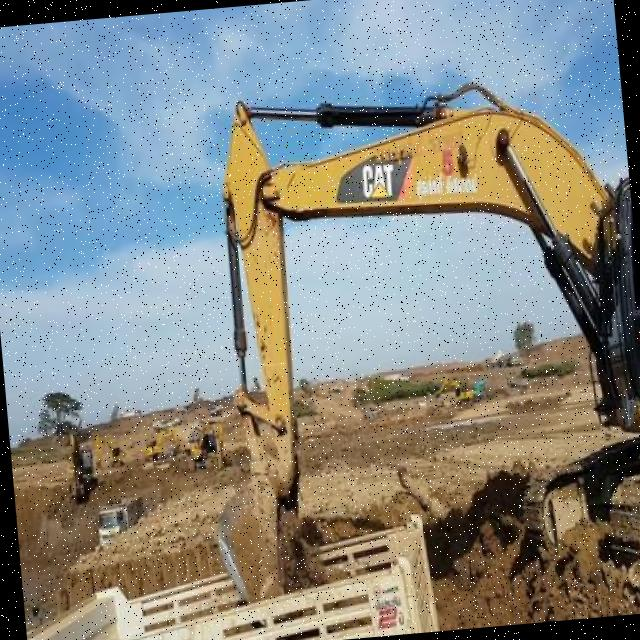Dump Truck: (18, 512, 440, 640), (94, 494, 145, 540)
Excavator: (176, 60, 640, 635), (62, 430, 98, 502), (182, 418, 226, 472), (142, 427, 180, 465), (92, 427, 125, 470)
